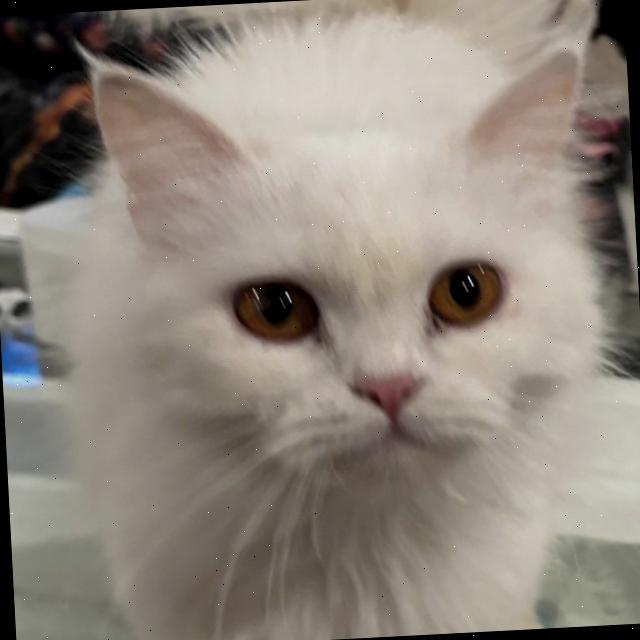persian_cat: (58, 14, 624, 522)
